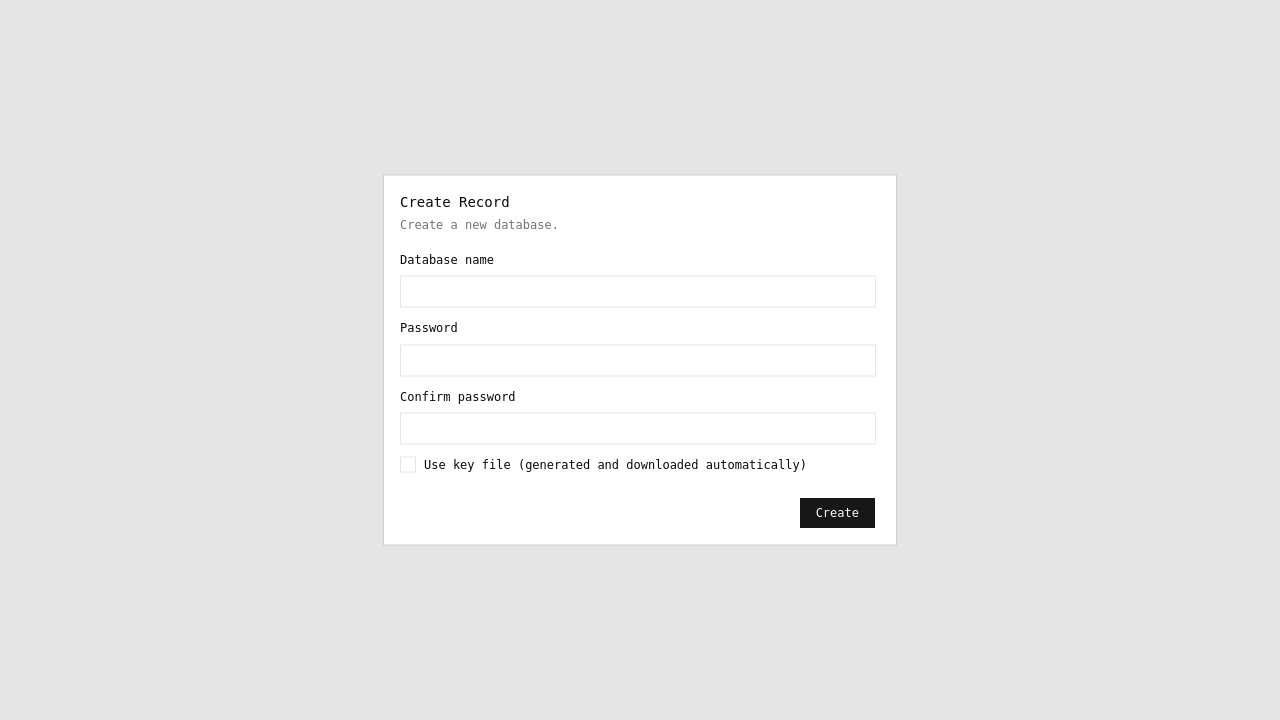
Test case: new-database-dialog › NewDatabaseDialog › shows a validation error and does not submit when passwords do not match
Type "My Vault" into the field labelled "Database name". click: {"x": 638, "y": 292}
box: [400, 276, 876, 308]
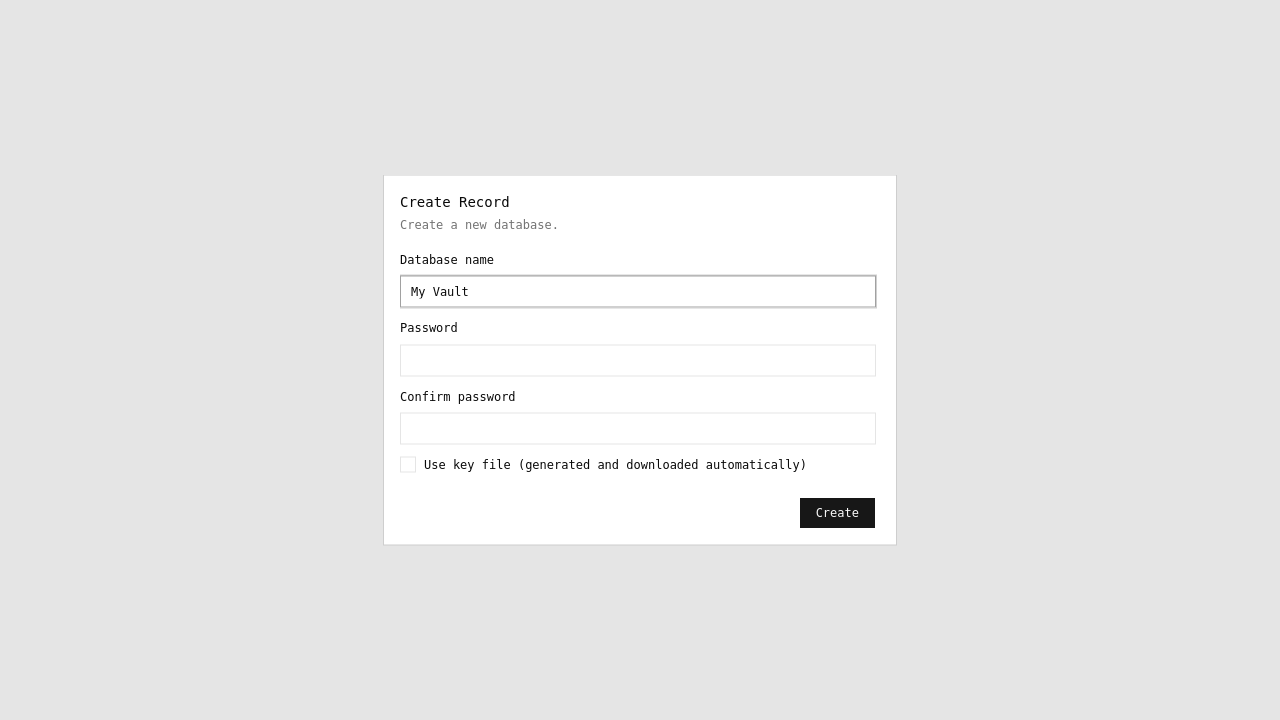
Type "password-1" into the password field labelled "Password". click: {"x": 638, "y": 360}
box: [400, 344, 876, 376]
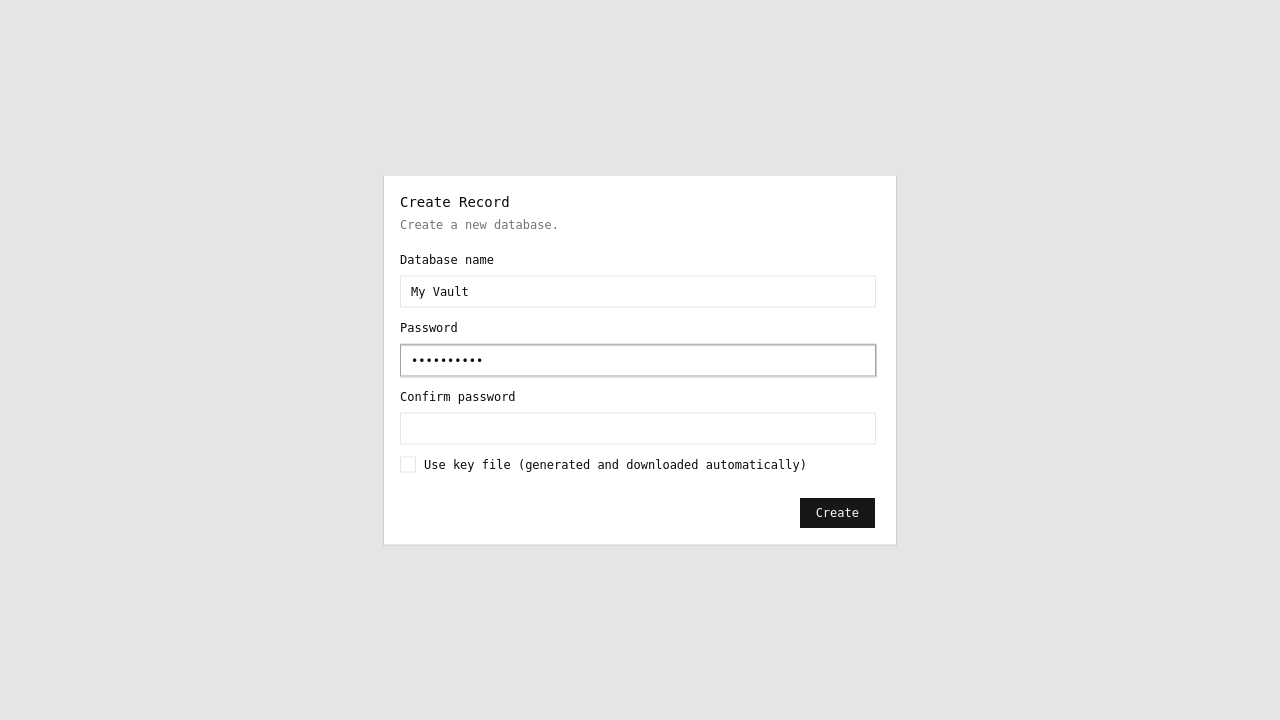
Type "password-2" into the password field labelled "Confirm password". click: {"x": 638, "y": 428}
box: [400, 412, 876, 444]
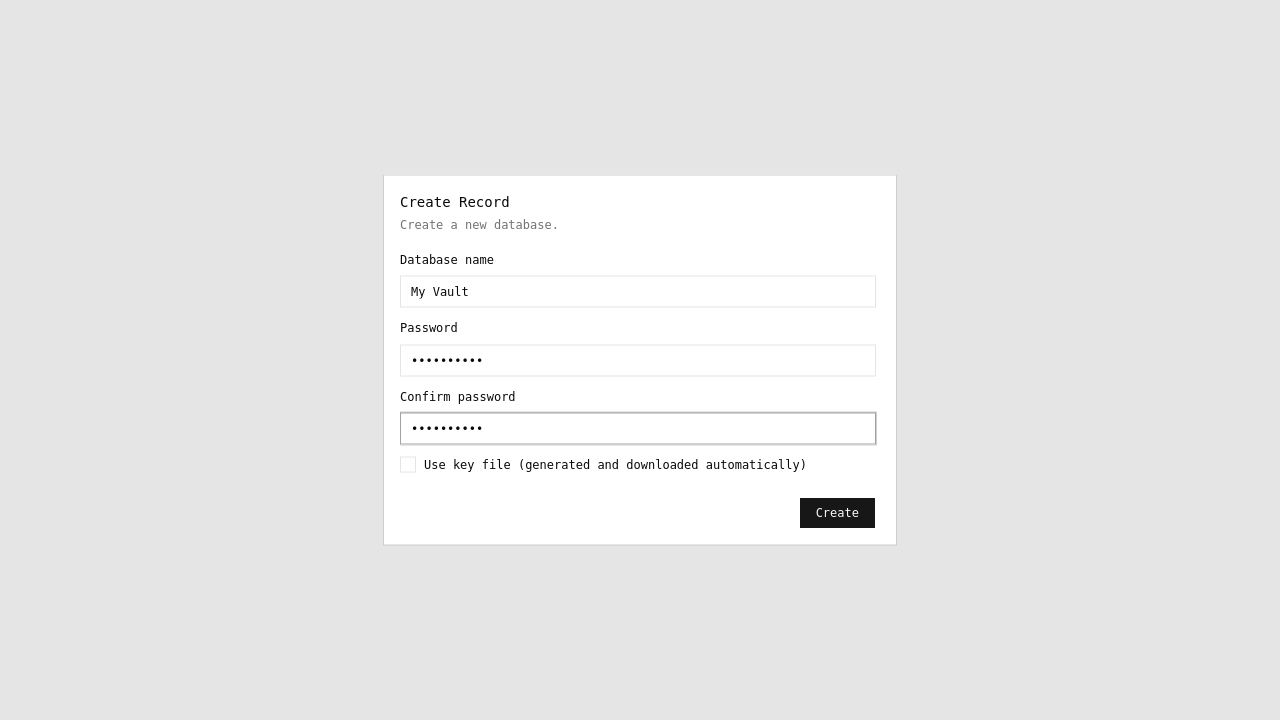
Click the button "Create". click: {"x": 837, "y": 512}
box: [799, 496, 876, 528]
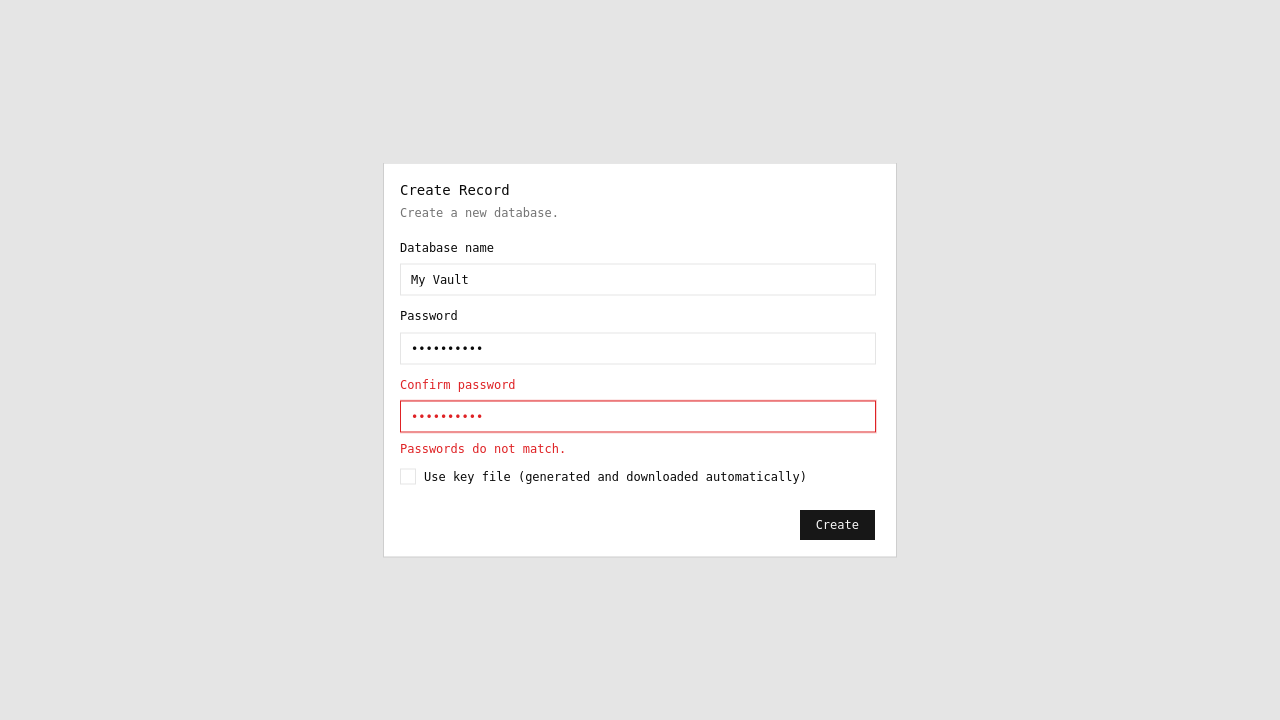
Check: the text "Passwords do not match." is shown, box [400, 442, 566, 456]
